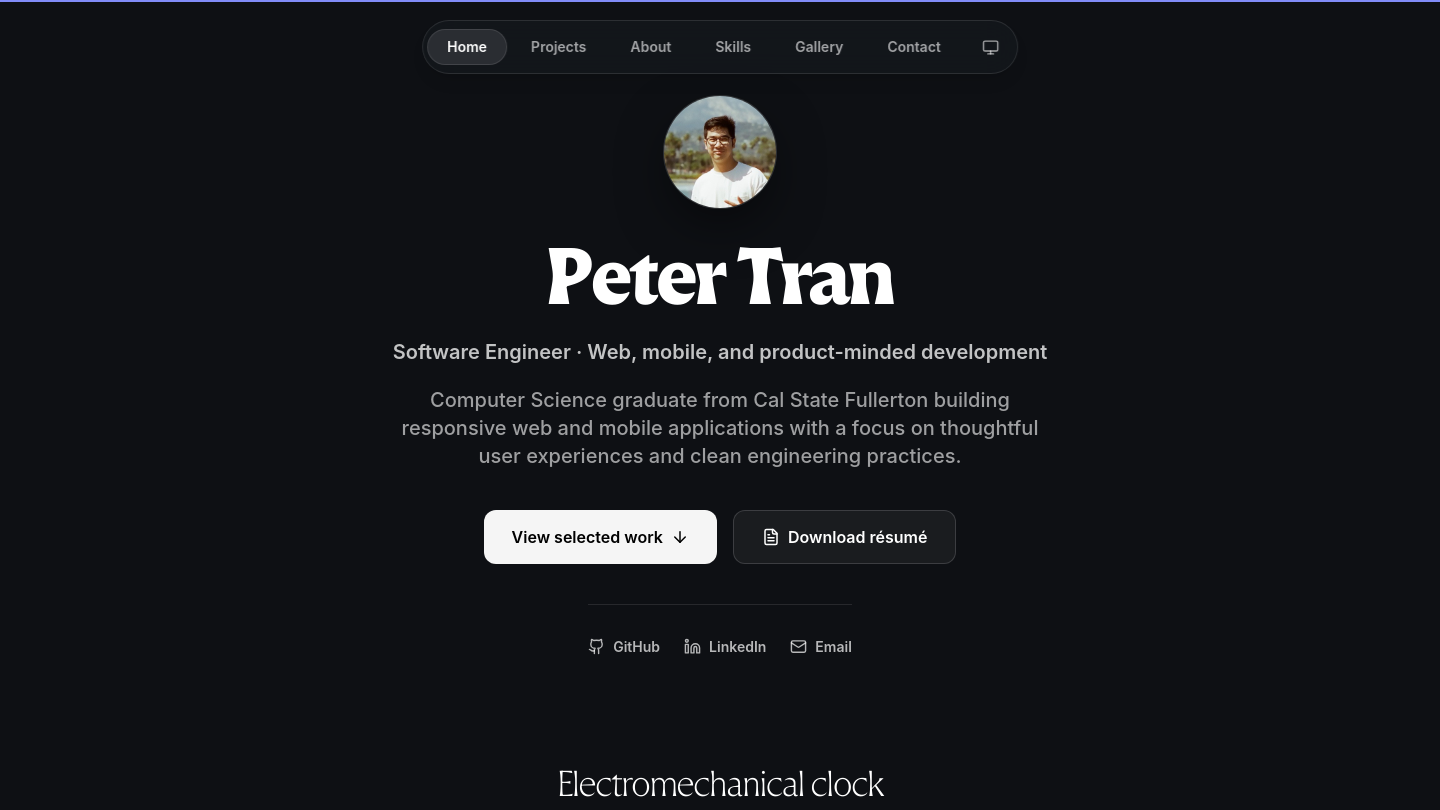
home is the only panel rendered until another tab is opened
The image size is (1440, 810).
expect the heading "skills i use to build products" is not shown: met
Step 1. Click the link "Skills" → (733, 46), box [715,38,751,55]
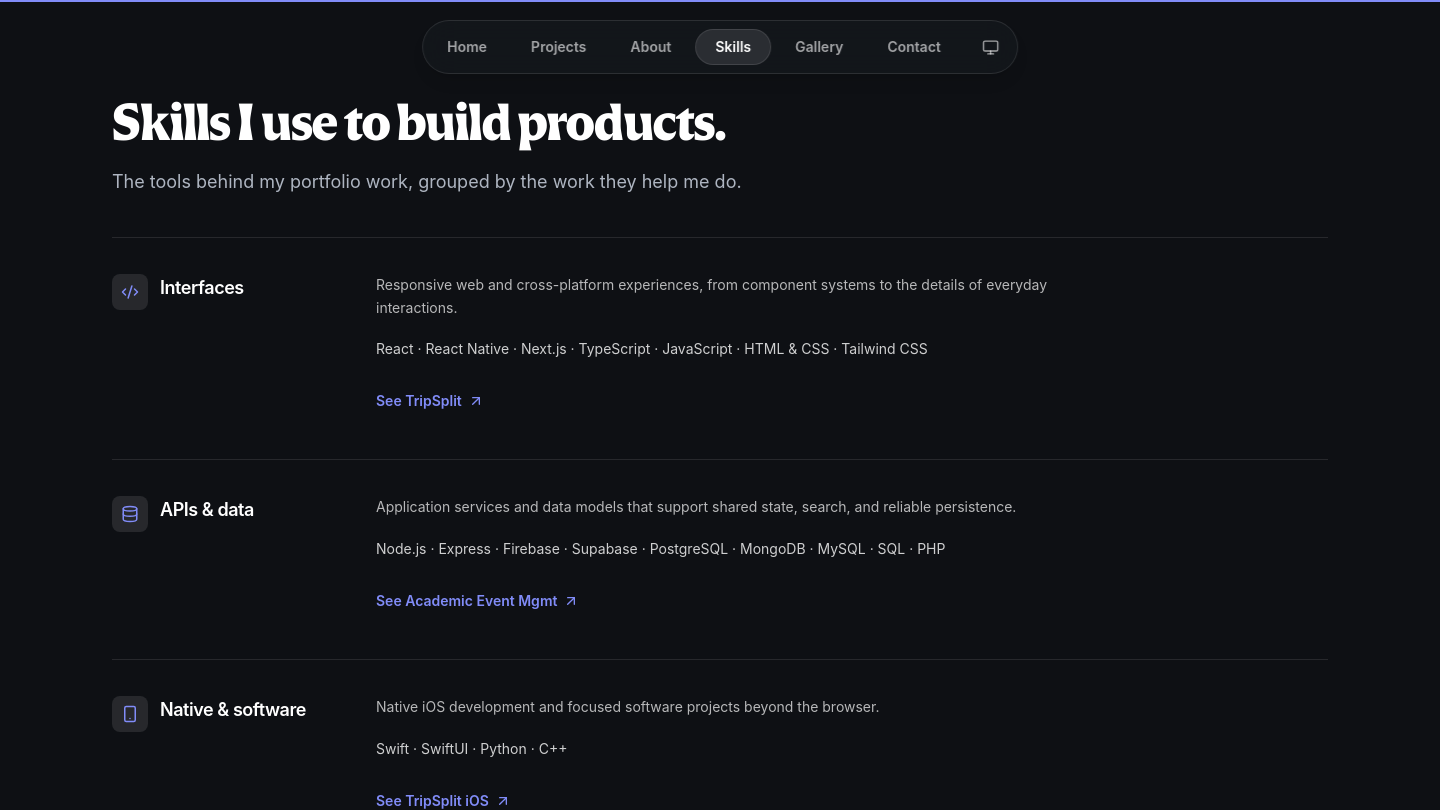
expect the heading "Skills I use to build products." is shown: met, box [112,96,784,152]
